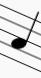note: (10, 6, 40, 75)
